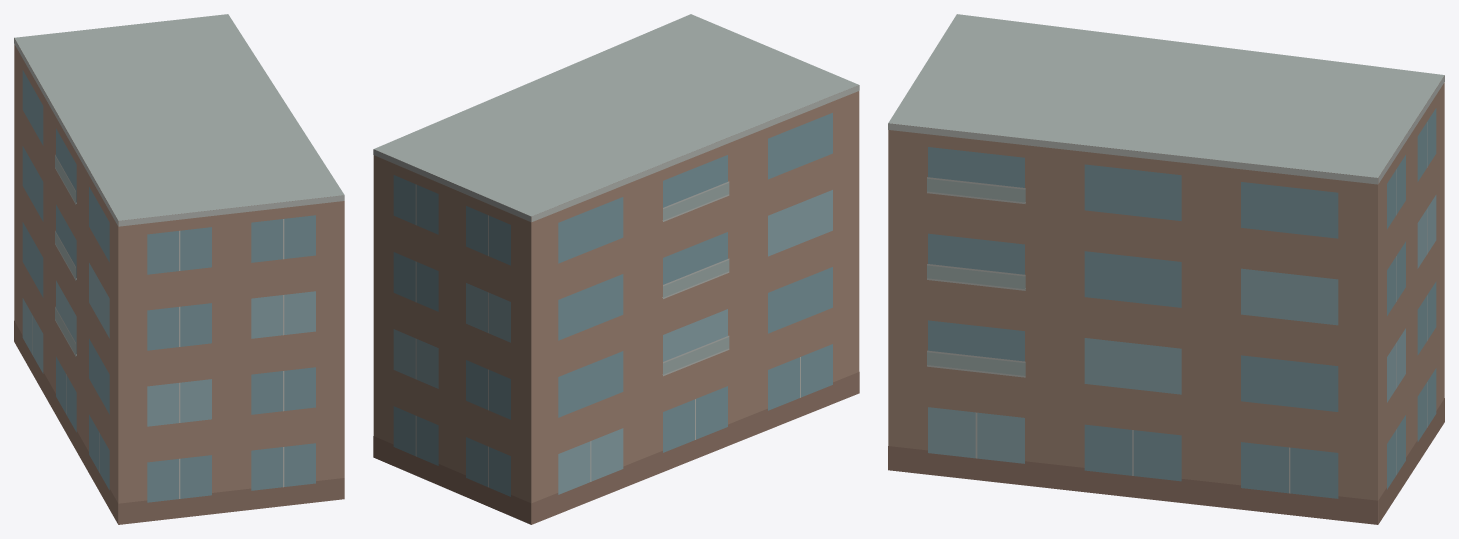
The model's file is survey-upis-32764589.glb.
3 renders of one model, left to right at view 1: azimuth 30°, elevation 25°; view 2: azimuth 150°, elevation 25°; view 3: azimuth 270°, elevation 25°, orthographic. The views are drawn at different scales.
Parts seen in each view (by area): view 1: survey-upis-32764589.tmp; view 2: survey-upis-32764589.tmp; view 3: survey-upis-32764589.tmp.
Part boxes in pixels (bbox=[...]): survey-upis-32764589.tmp: bbox=[14, 14, 344, 524]; survey-upis-32764589.tmp: bbox=[373, 14, 859, 524]; survey-upis-32764589.tmp: bbox=[888, 14, 1444, 524].
Bounding box in the file's own units: 12.98 × 12.8 × 18.62.
